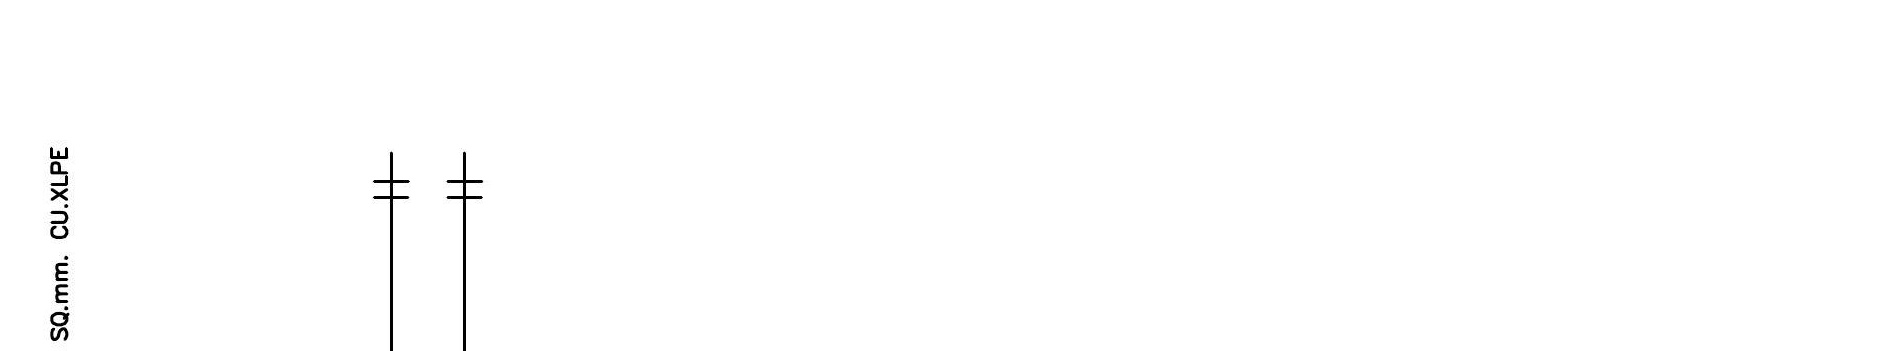115_buffer: (372, 180, 410, 199), (446, 180, 484, 199)
